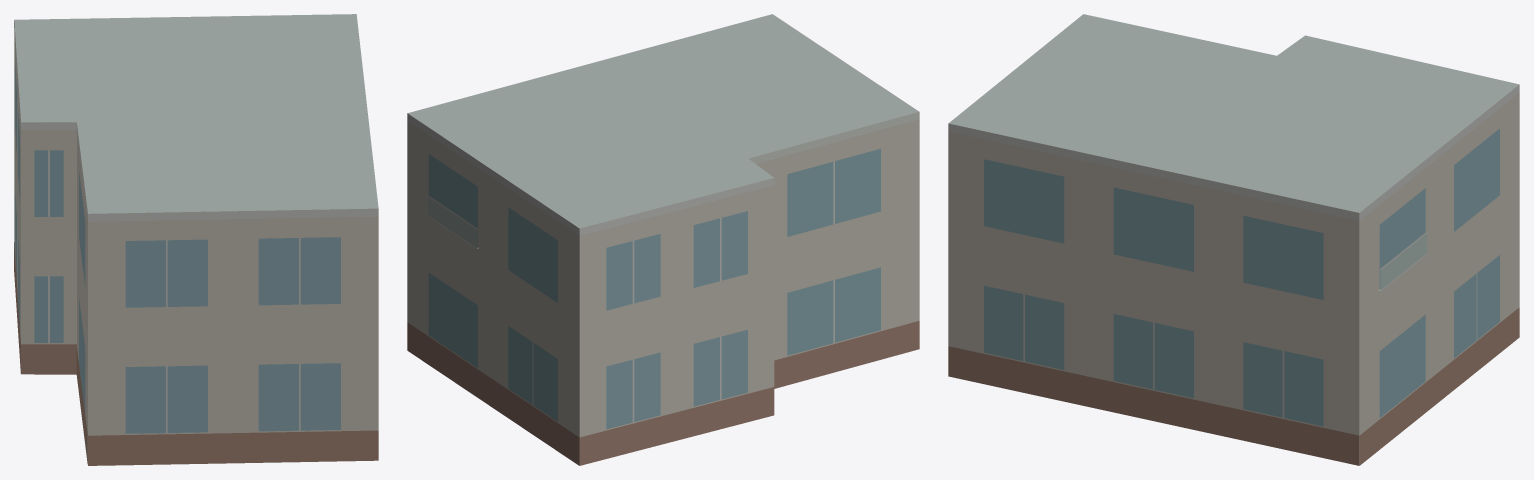
The model's file is survey-upis-32680496.glb.
3 views of the same model, side by side, from view 1: azimuth 30°, elevation 25°; view 2: azimuth 150°, elevation 25°; view 3: azimuth 270°, elevation 25° (orthographic). The views are drawn at different scales.
Visible parts, largest first — view 1: survey-upis-32680496.tmp; view 2: survey-upis-32680496.tmp; view 3: survey-upis-32680496.tmp.
Part boxes in pixels (x1,y1,x2,y2): survey-upis-32680496.tmp: [14, 14, 378, 465]; survey-upis-32680496.tmp: [407, 14, 919, 465]; survey-upis-32680496.tmp: [948, 14, 1519, 465].
Bounding box in the file's own units: 13.17 × 7.8 × 15.98.
